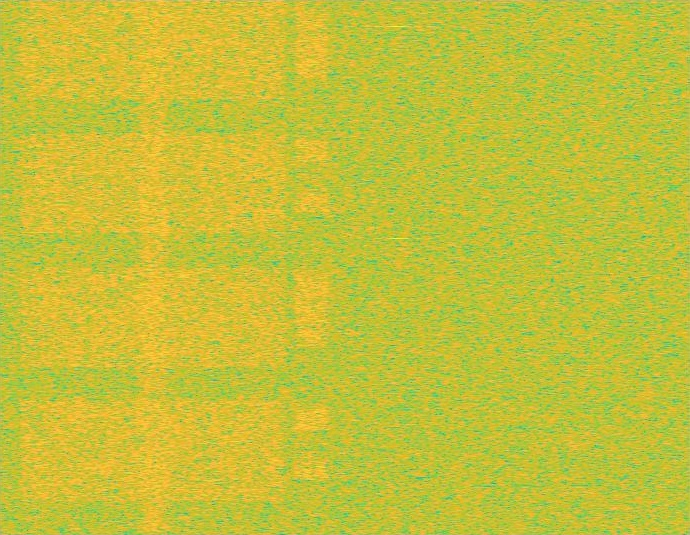5G: (15, 0, 291, 534)
DSSS: (135, 0, 172, 534)
LTE: (294, 0, 329, 534)
Radar: (391, 0, 405, 534)
